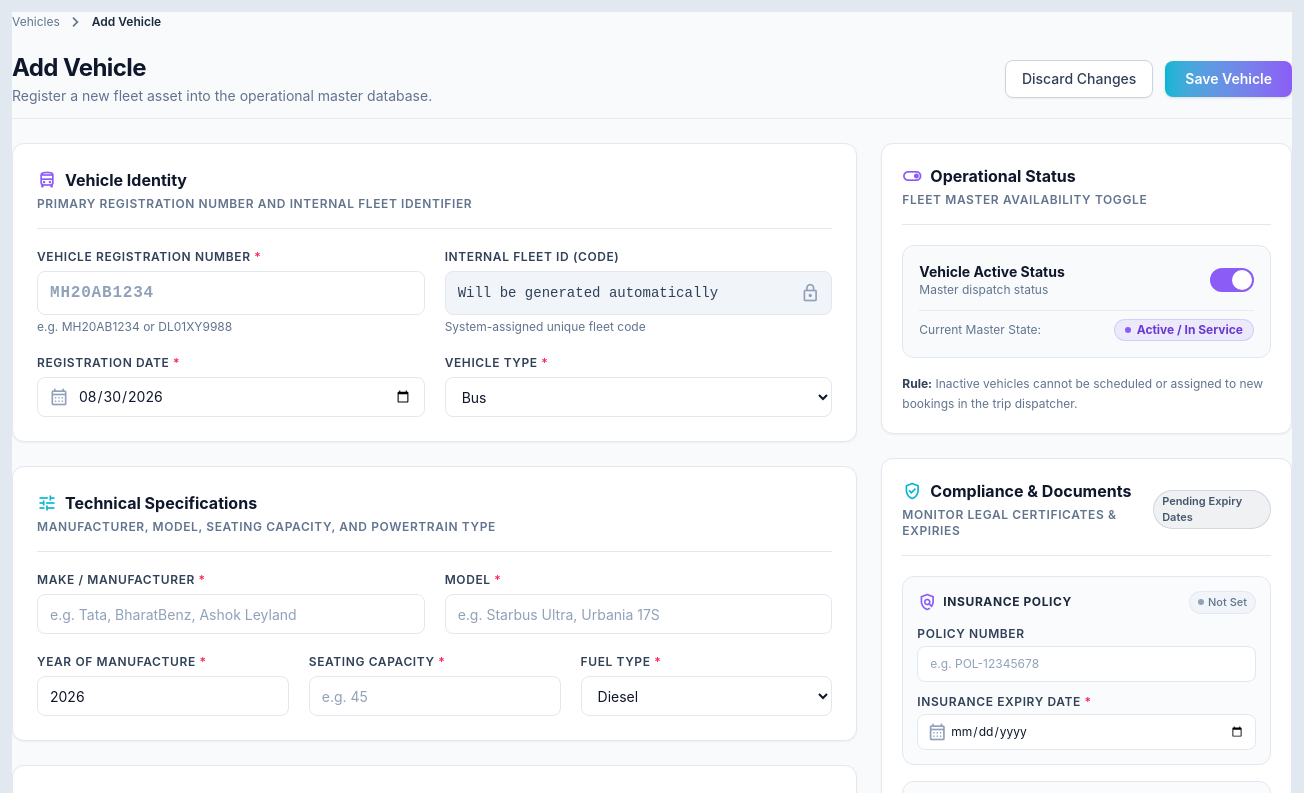
Scenario: VehicleForm Component › ADD MODE › shows validation errors and toast when required fields are missing
Click the button "Save Vehicle".
click(1229, 79)  # box x1=1165 y1=61 x2=1292 y2=97
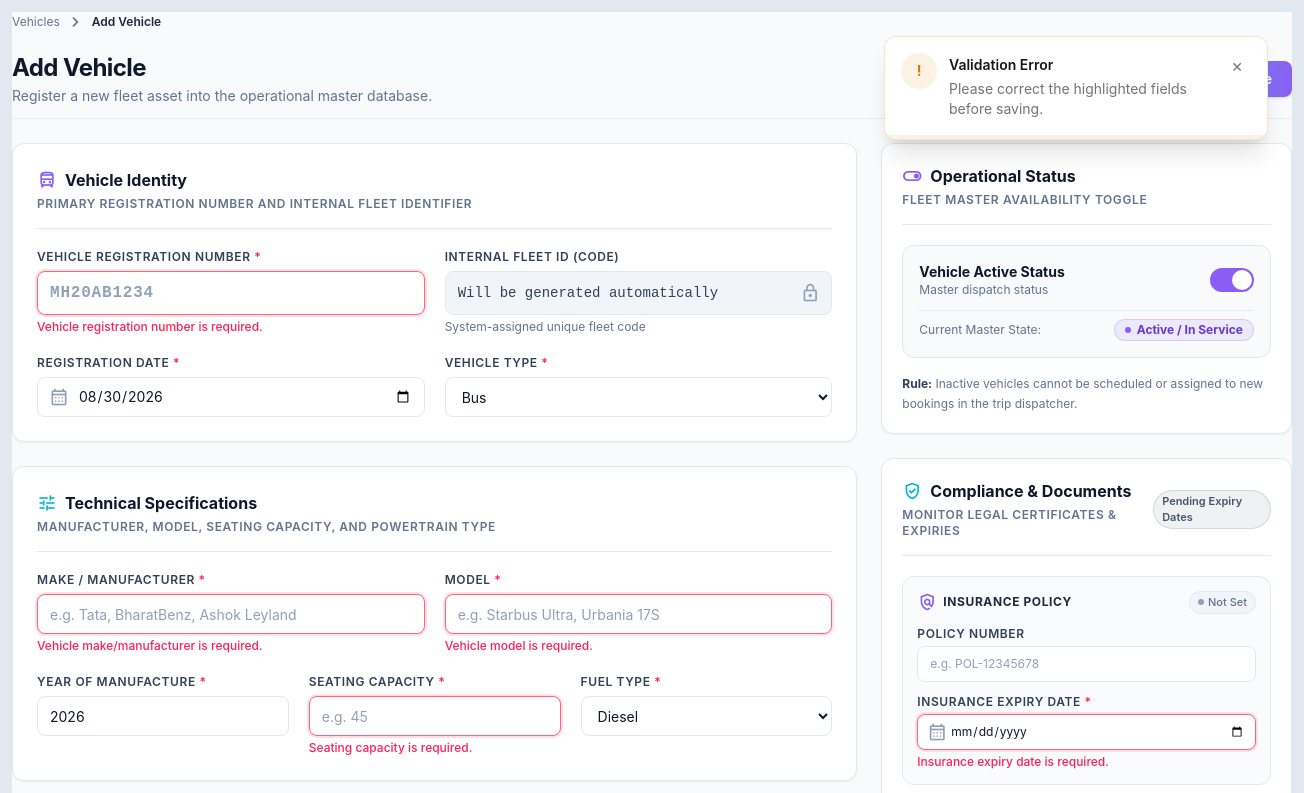
expect the text "Vehicle registration number is required." is shown: met, box x1=37 y1=319 x2=263 y2=334
expect the text "Vehicle make/manufacturer is required." is shown: met, box x1=37 y1=638 x2=263 y2=653
expect the text "Vehicle model is required." is shown: met, box x1=445 y1=638 x2=593 y2=653
